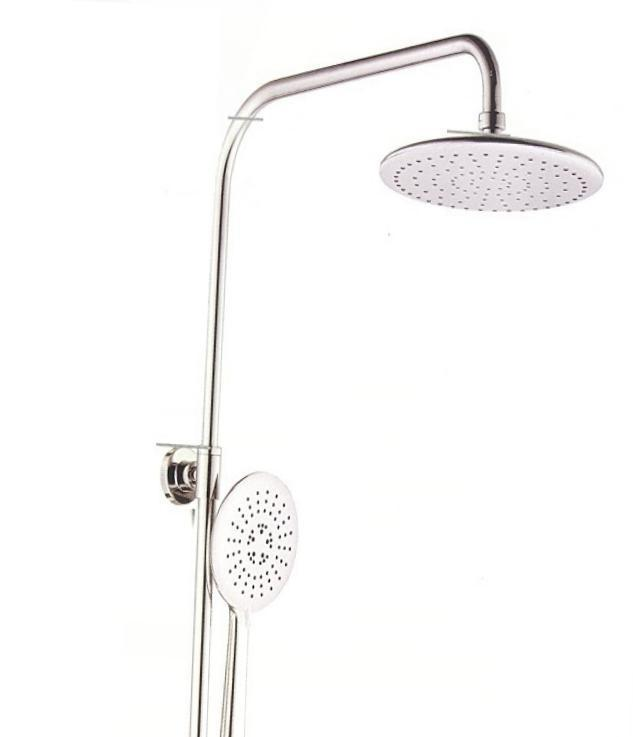Ducha: (177, 6, 591, 736)
